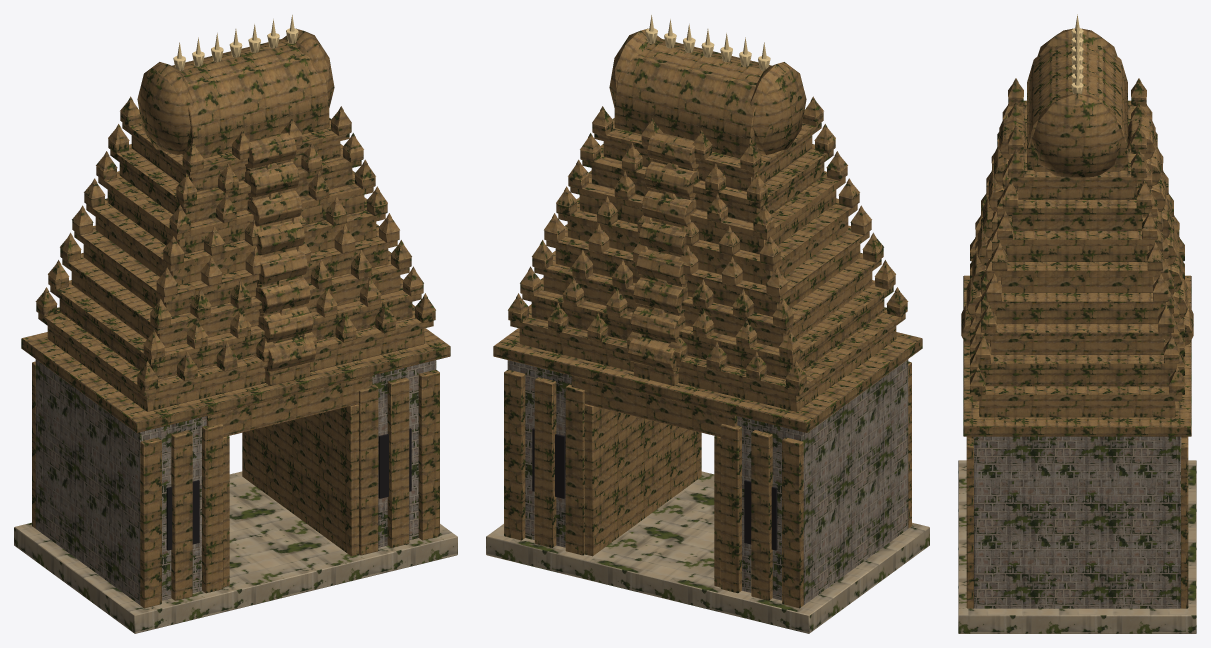
File: Gopuram.fbx
3 views of the same model, side by side, from view 1: azimuth 30°, elevation 25°; view 2: azimuth 150°, elevation 25°; view 3: azimuth 270°, elevation 25° (orthographic).
Visible parts, largest first — view 1: Gopuram_LOD0; view 2: Gopuram_LOD0; view 3: Gopuram_LOD0.
Boxes of the visible parts, x1,y1,x2,y2 form: Gopuram_LOD0: (14,15,457,633); Gopuram_LOD0: (486,15,929,633); Gopuram_LOD0: (958,14,1196,633).
Size of what is drawn, in the model's own units: 14.2 by 21.92 by 9.2.
